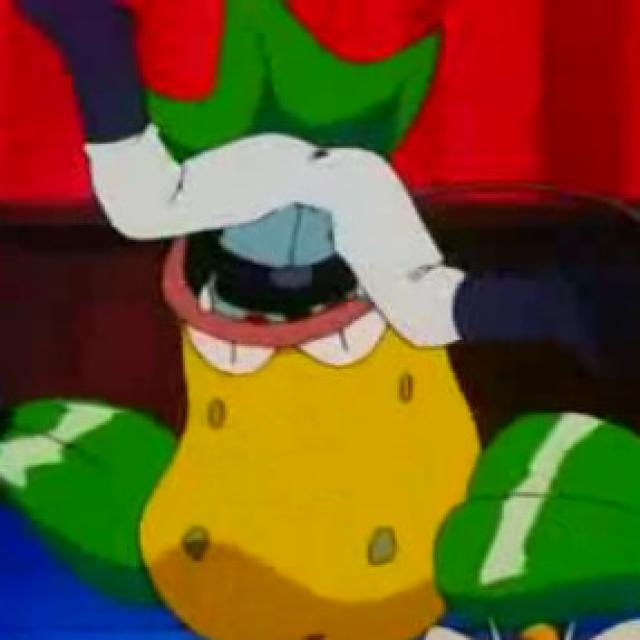Victreebel: (138, 211, 504, 640)
